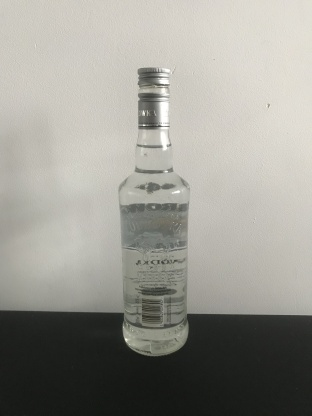nakretka: (135, 63, 173, 129)
